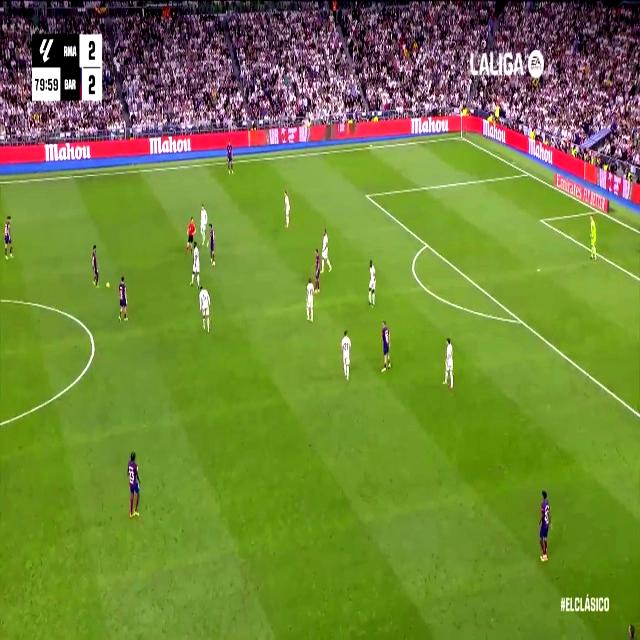bigarea_bottom_inner: (635, 402, 640, 427)
bigarea_top_inner: (363, 186, 370, 202)
bottom_arc_area_intersection: (516, 312, 526, 329)
corner: (457, 131, 465, 141)
smallarea_top_inner: (538, 214, 544, 225)
top_arc_area_intersection: (423, 236, 431, 252)
